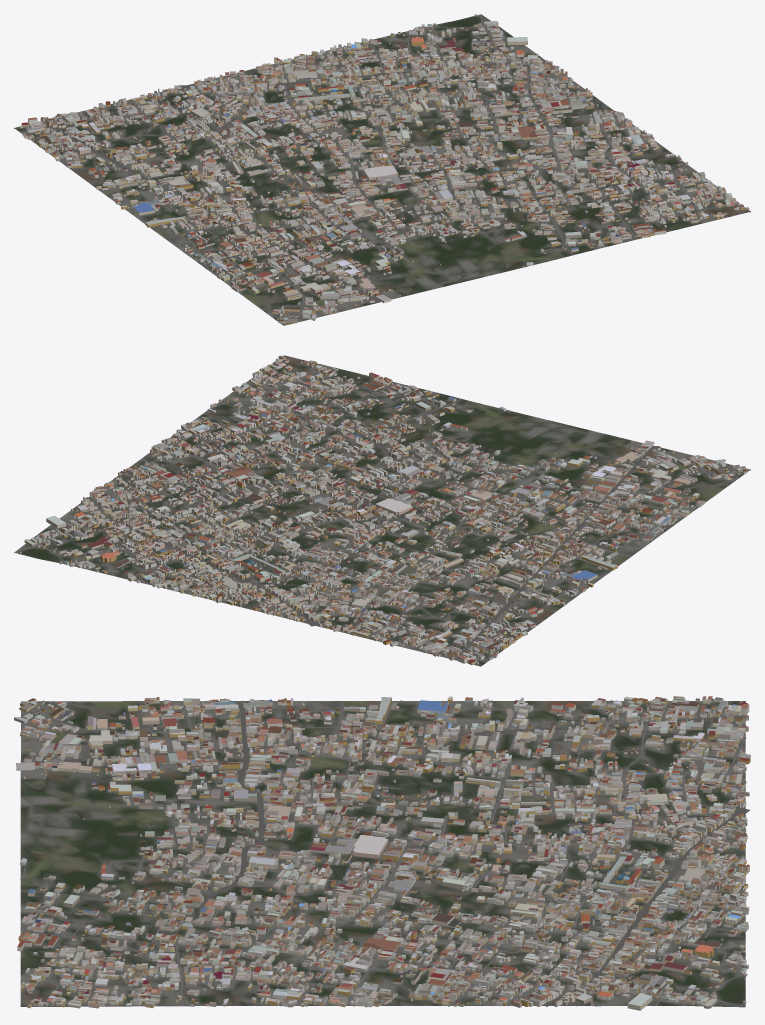
The picture shows the model from 3 angles, top to bottom: view 1: azimuth 30°, elevation 25°; view 2: azimuth 150°, elevation 25°; view 3: azimuth 270°, elevation 25°; orthographic projection. The views are drawn at different scales.
Visible parts, largest first — view 1: buildings, ground, roads; view 2: buildings, ground, roads; view 3: buildings, ground, roads.
Part boxes in pixels (x1,y1,x2,y2): buildings: (19,14,749,324); ground: (14,14,750,325); roads: (25,15,725,322); buildings: (19,355,747,664); ground: (14,355,750,666); roads: (16,364,738,660); buildings: (14,696,750,1010); ground: (20,701,745,1007); roads: (20,700,749,1006).
Bounding box in the file's own units: 1429 × 24.54 × 1424.
